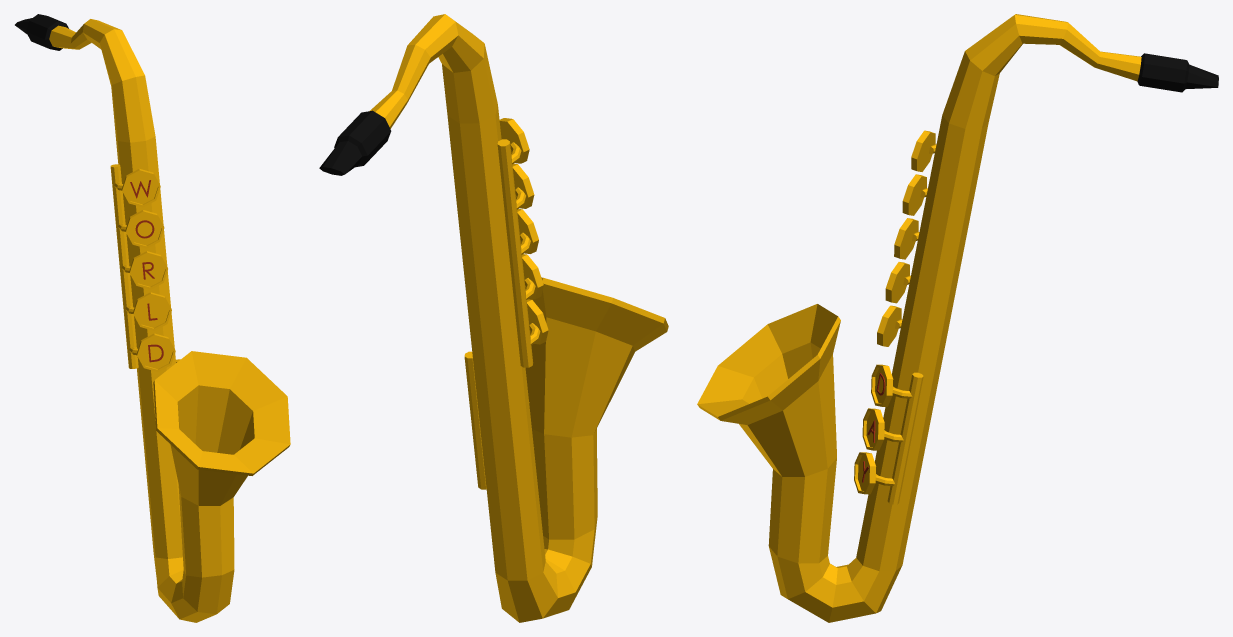
The model's file is qink_30_barmi.obj.
3 renders of one model, left to right at view 1: azimuth 30°, elevation 25°; view 2: azimuth 150°, elevation 25°; view 3: azimuth 270°, elevation 25°, orthographic. The views are drawn at different scales.
Parts seen in each view (by area): view 1: Torus010, Cylinder021, Cylinder015, Cylinder014, Cylinder016, Cylinder013, Cylinder012; view 2: Torus010, Cylinder021, Cylinder020, Cylinder012, Cylinder014, Cylinder015, Cylinder013, Cylinder016; view 3: Torus010, Cylinder020, Cylinder019, Cylinder018, Cylinder017.
Part boxes in pixels (x1,y1,x2,y2): Torus010: [15, 14, 290, 622]; Cylinder021: [110, 164, 138, 368]; Cylinder015: [133, 292, 171, 330]; Cylinder014: [129, 251, 167, 289]; Cylinder016: [136, 333, 175, 371]; Cylinder013: [125, 210, 164, 248]; Cylinder012: [121, 168, 160, 207]; Torus010: [319, 14, 668, 622]; Cylinder021: [497, 139, 533, 367]; Cylinder020: [464, 351, 486, 489]; Cylinder012: [499, 118, 529, 163]; Cylinder014: [517, 209, 538, 253]; Cylinder015: [522, 254, 543, 299]; Cylinder013: [512, 163, 534, 208]; Cylinder016: [526, 299, 548, 344]; Torus010: [697, 14, 1218, 622]; Cylinder020: [887, 372, 923, 504]; Cylinder019: [854, 452, 876, 494]; Cylinder018: [862, 408, 884, 450]; Cylinder017: [871, 364, 893, 406].
Bounding box in the file's own units: 30.76 × 120 × 93.74.
